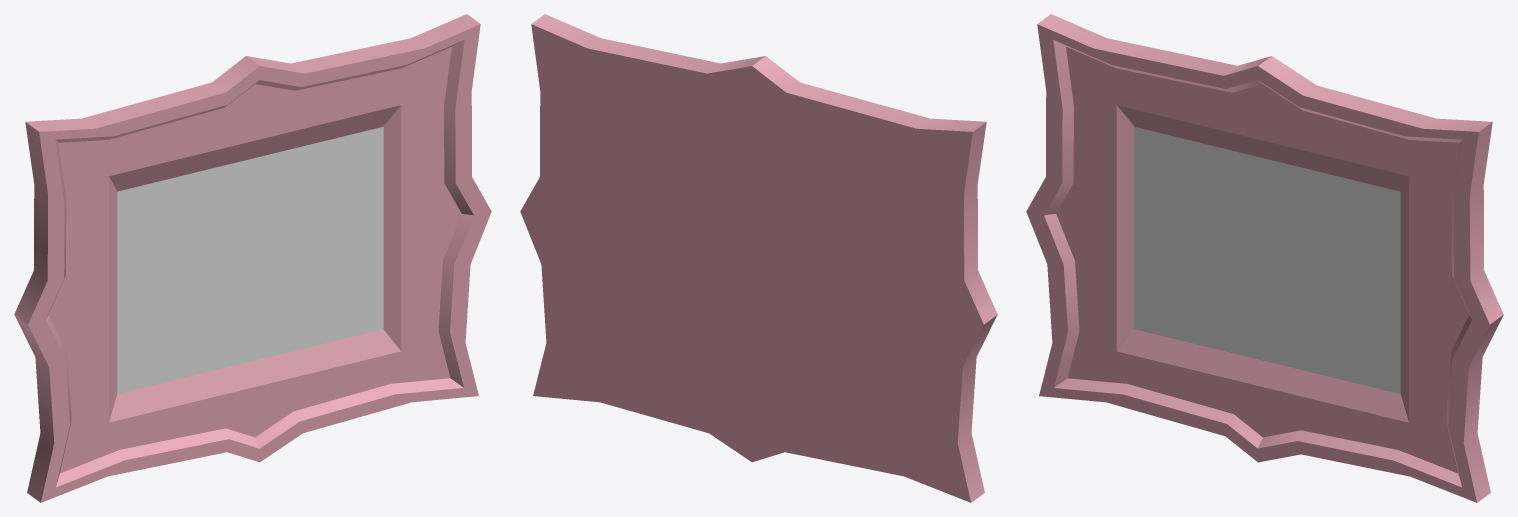
Rendered from PictureFrame.fbx.
3 views of the same model, side by side, from view 1: azimuth 30°, elevation 25°; view 2: azimuth 150°, elevation 25°; view 3: azimuth 330°, elevation 25° (orthographic).
Parts seen in each view (by area): view 1: PictureFrame; view 2: PictureFrame; view 3: PictureFrame.
Boxes of the visible parts, x1,y1,x2,y2 form: PictureFrame: (14,14,491,502); PictureFrame: (520,14,997,502); PictureFrame: (1026,14,1503,502).
Bounding box in the file's own units: 83.74 × 68.41 × 4.33.
